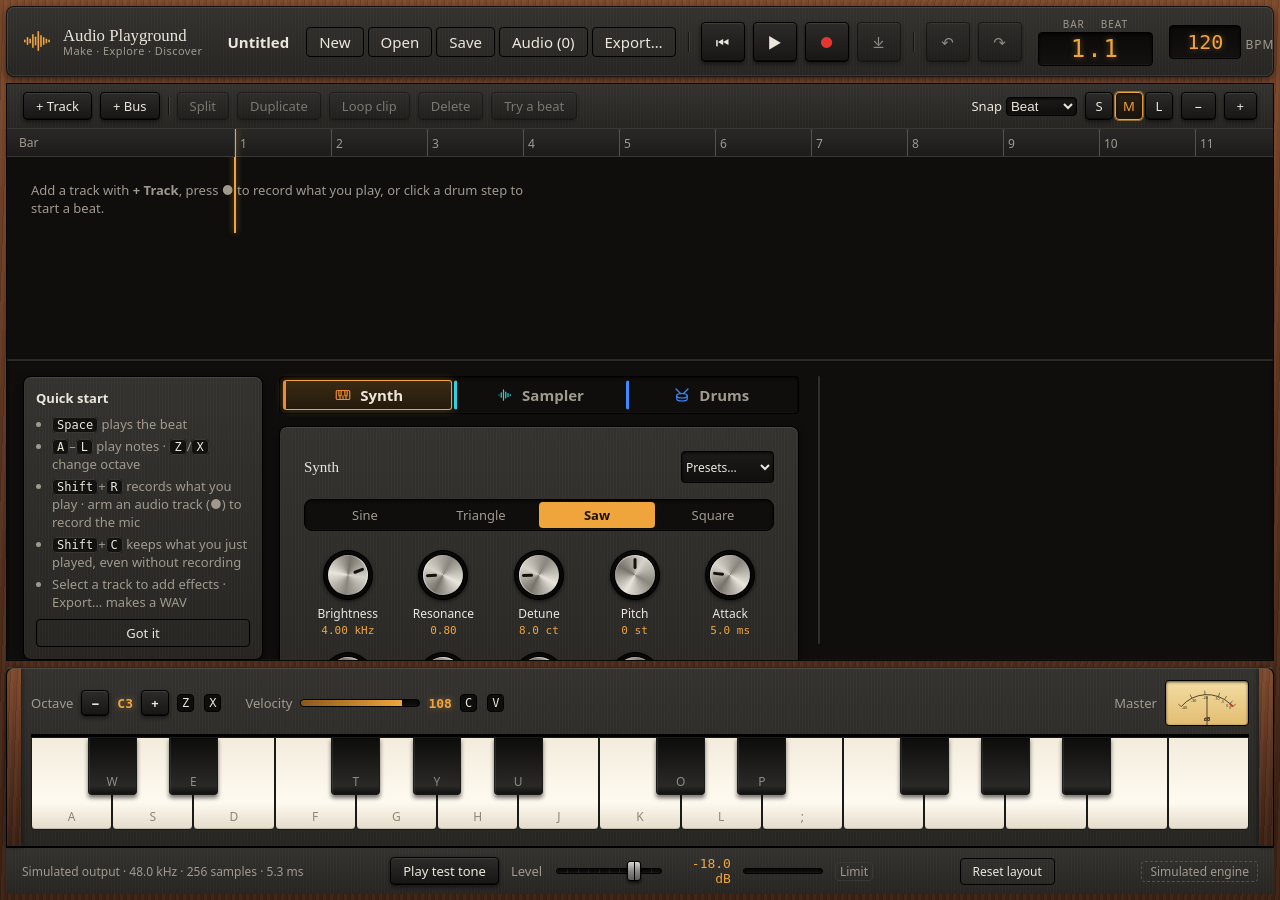
Test: App › switches to the sampler and loads a sample
Click the tab "Sampler": {"x": 539, "y": 395} [454,380,624,410]
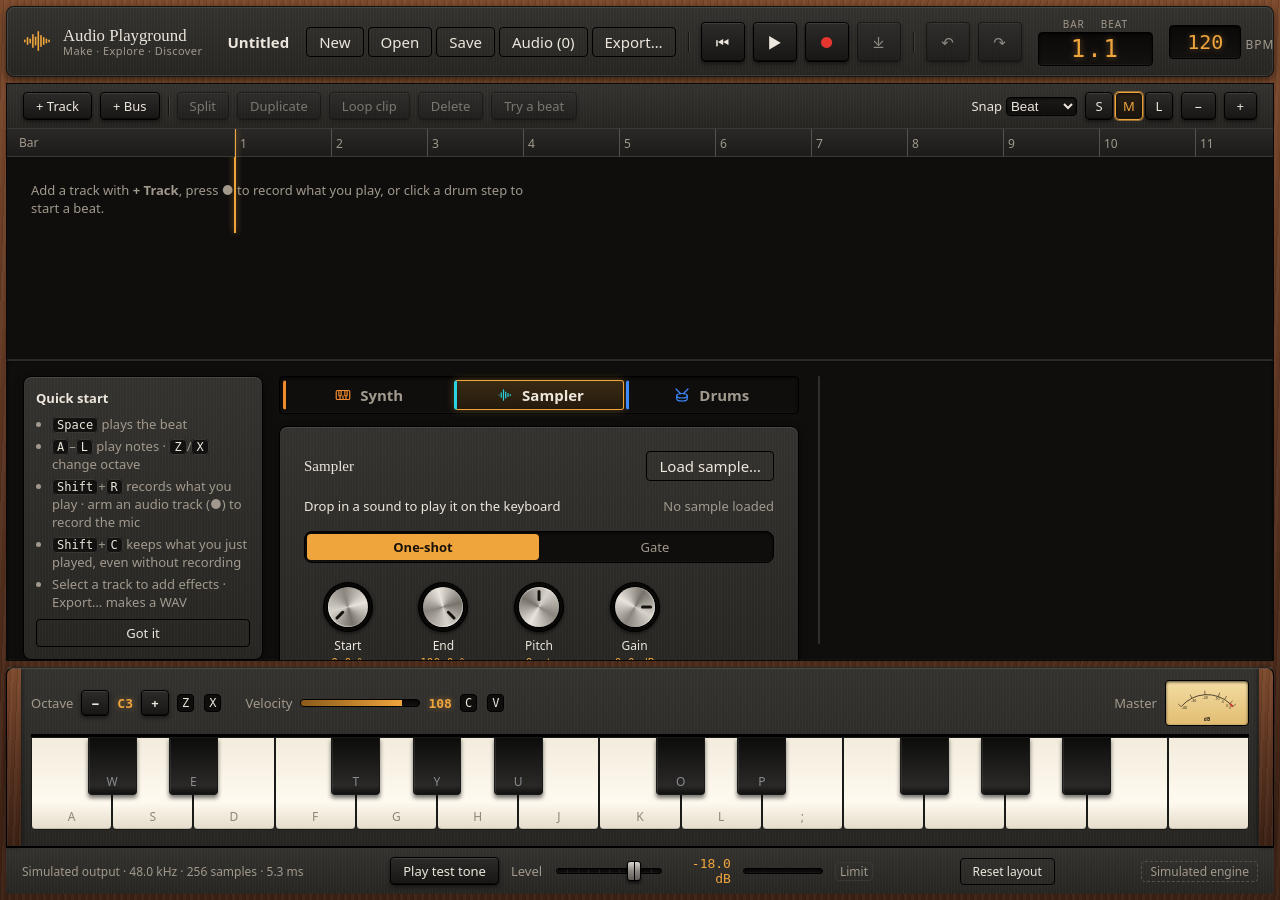
Result: the text "No sample loaded" is shown at [663,497,774,515]
Click the button "Load sample…": {"x": 710, "y": 466} [646,451,774,481]
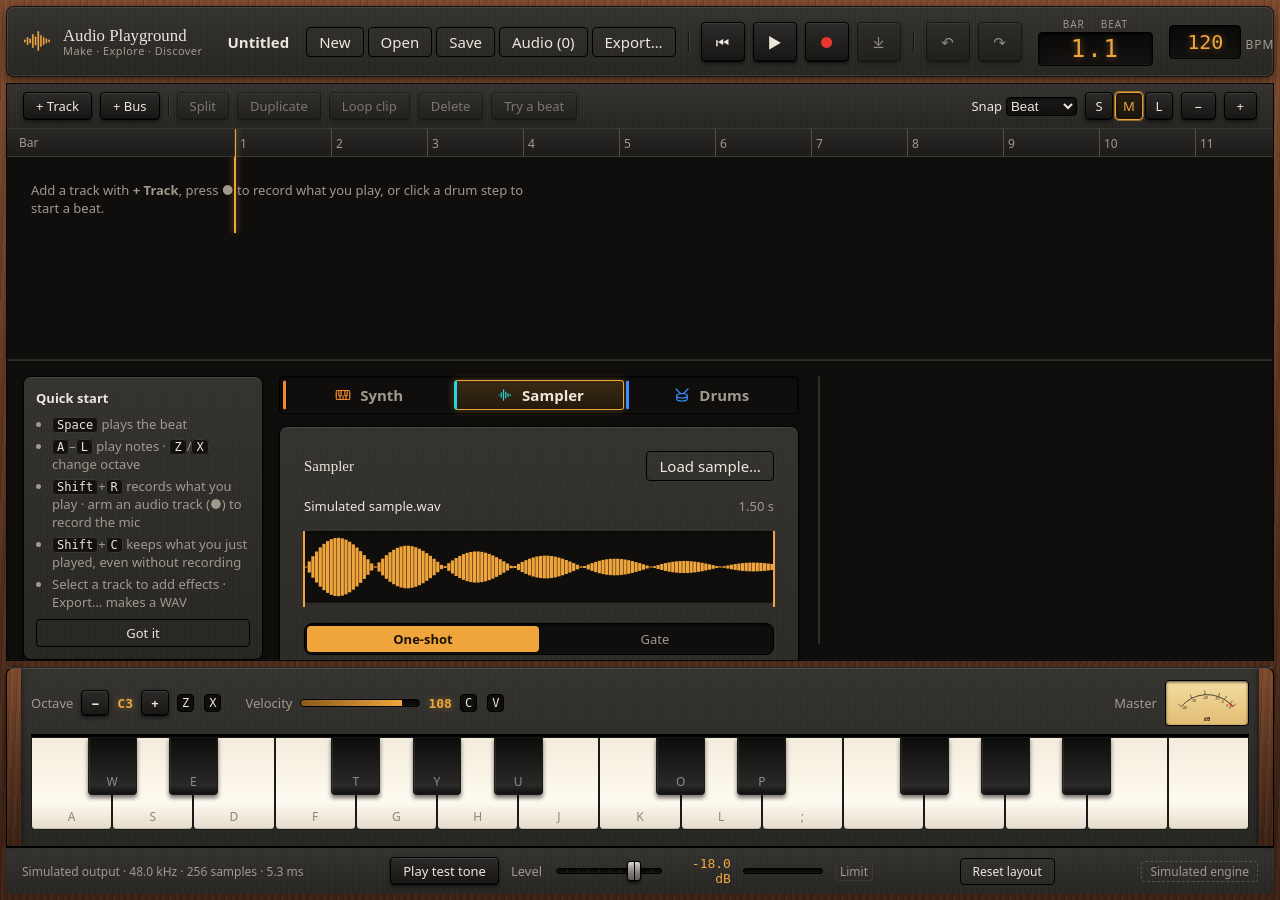
Result: the text "Simulated sample.wav" is shown at [304,497,441,515]
Result: the text "1.50 s" is shown at [739,497,774,515]
